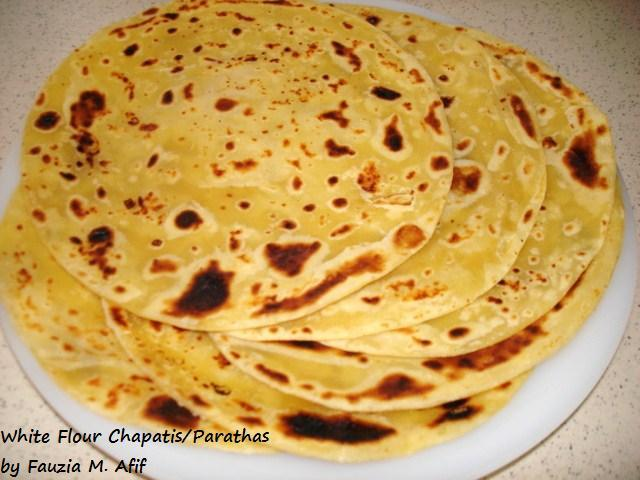roti: (0, 0, 631, 454)
